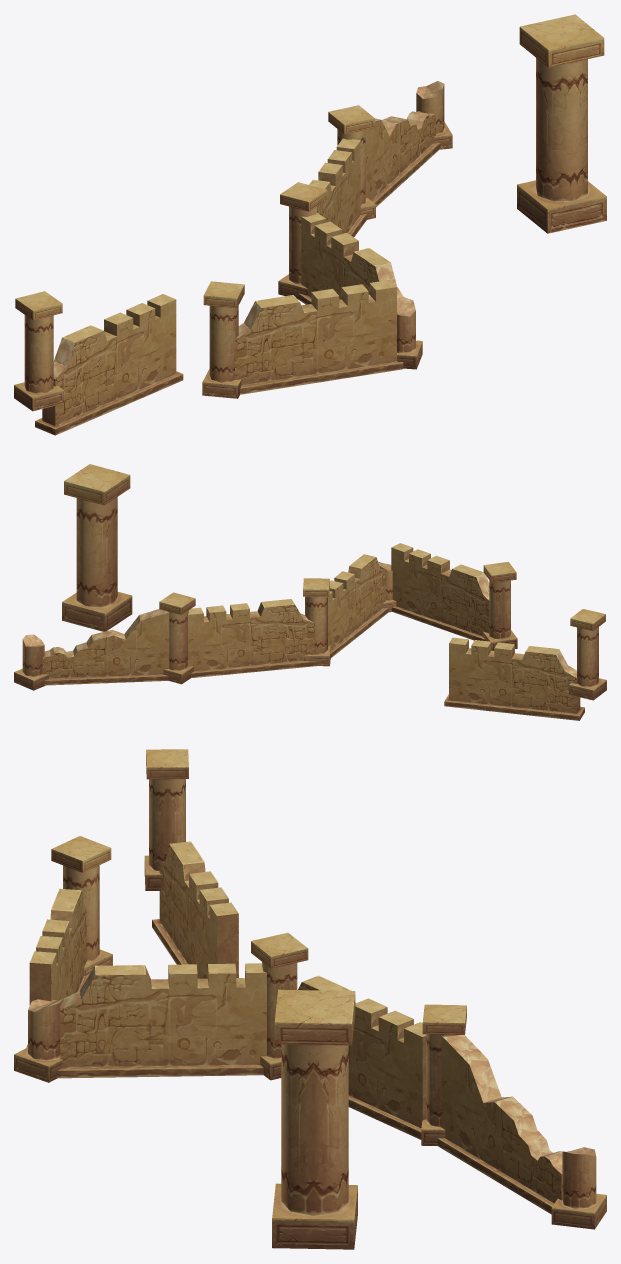
File: Area_11_24.fbx
3 renders of one model, top to bottom at view 1: azimuth 30°, elevation 25°; view 2: azimuth 150°, elevation 25°; view 3: azimuth 270°, elevation 25°, orthographic. The views are drawn at different scales.
Visible parts, largest first — view 1: Area_11_24; view 2: Area_11_24; view 3: Area_11_24.
Boxes of the visible parts, x1,y1,x2,y2 form: Area_11_24: [14, 14, 606, 435]; Area_11_24: [14, 464, 606, 720]; Area_11_24: [14, 749, 606, 1249].
Bounding box in the file's own units: 2701 × 883 × 1791.
